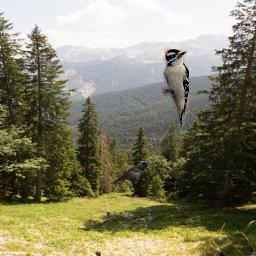Crow: (113, 161, 151, 184)
Woodpecker: (162, 49, 189, 127)
